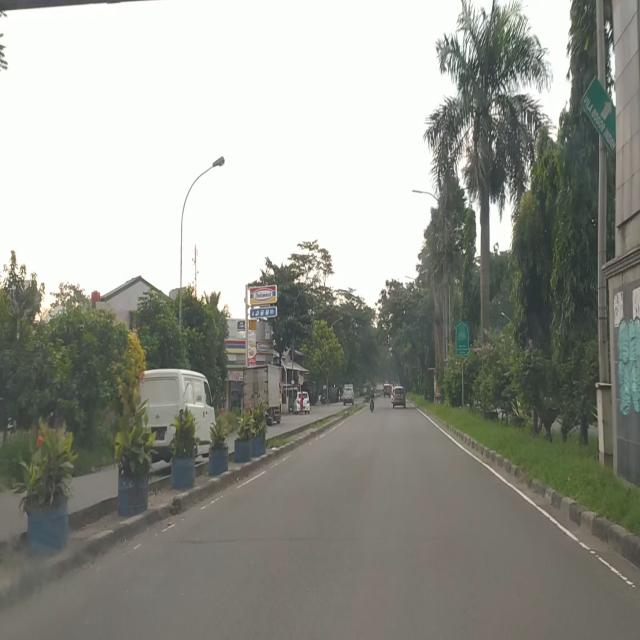Sewer Cover: (163, 536, 389, 548)
